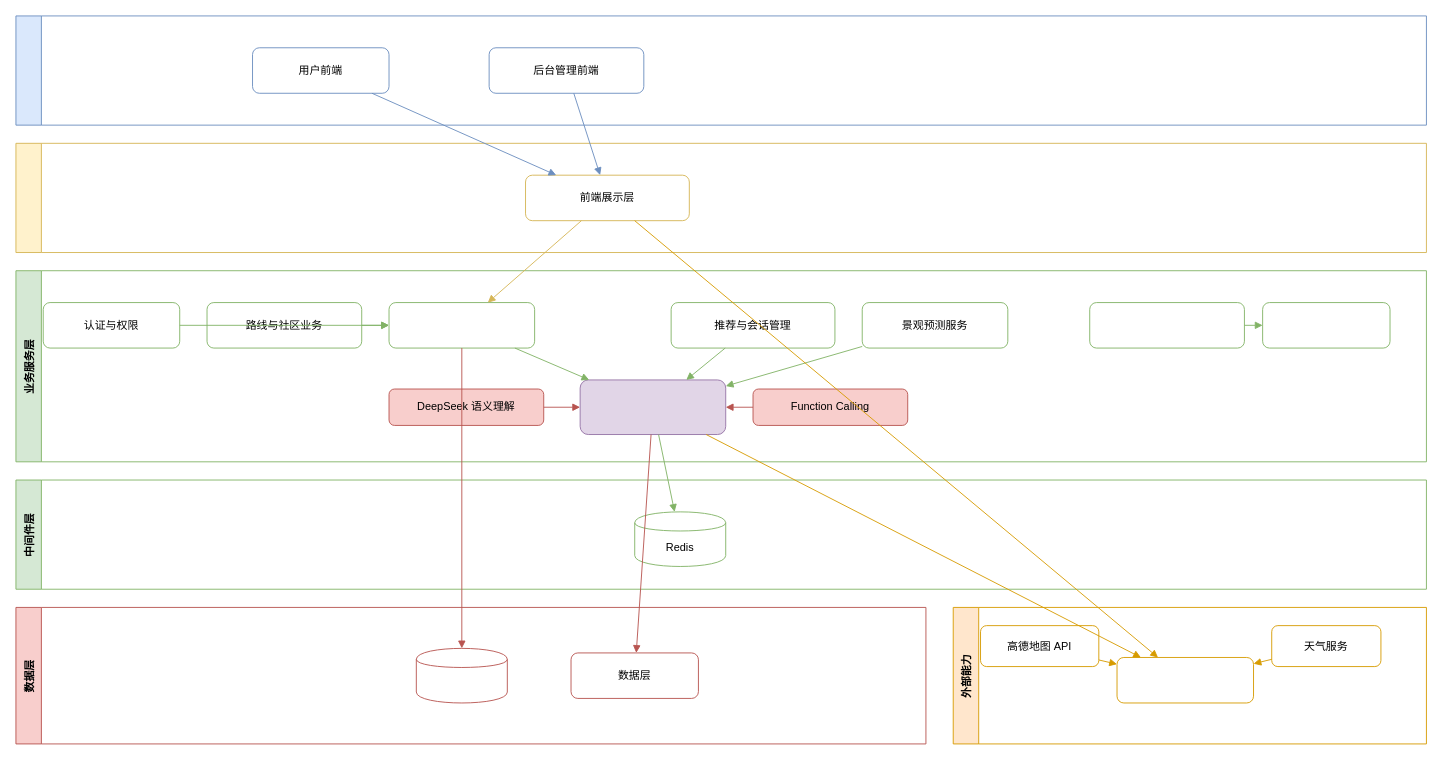
The diagram is 1442 pixels wide and 760 high, and some of its shapes have lost their labels. Each missing label, with the box of its shape:
AI服务层: (579, 379, 726, 435)
MySQL: (415, 647, 507, 703)
上传与媒体处理: (1089, 302, 1244, 348)
后端服务层: (388, 302, 535, 348)
外部能力网关: (1116, 657, 1254, 703)
接入层: (15, 15, 1426, 125)
表现层: (15, 142, 1426, 253)
配置与治理: (1262, 302, 1390, 348)
